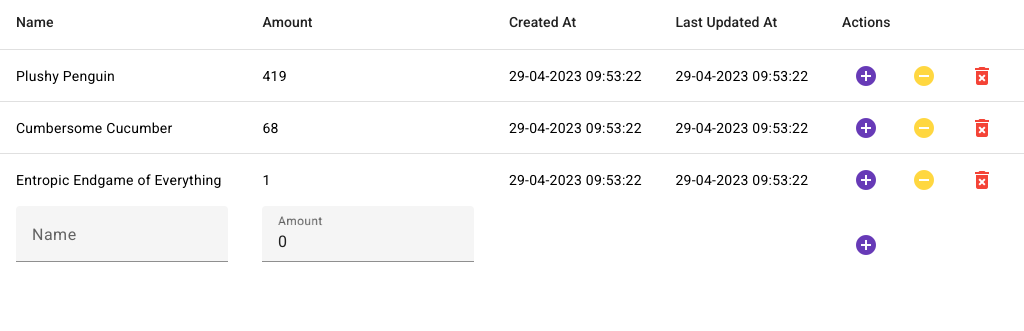
Inventory E2E › GIVEN the inventory is not empty › WHEN user enters name and amount AND clicks add button THEN item should be added
Type "New Item" into the field with test id "new-name-input".
click(122, 242); type("New Item")  # box [32,230,212,254]
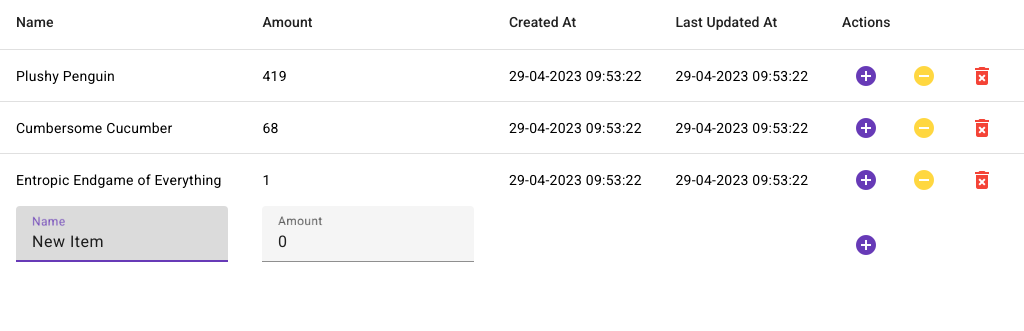
Type "8" into the number field with test id "new-amount-input".
click(368, 242); type("8")  # box [278,230,458,254]
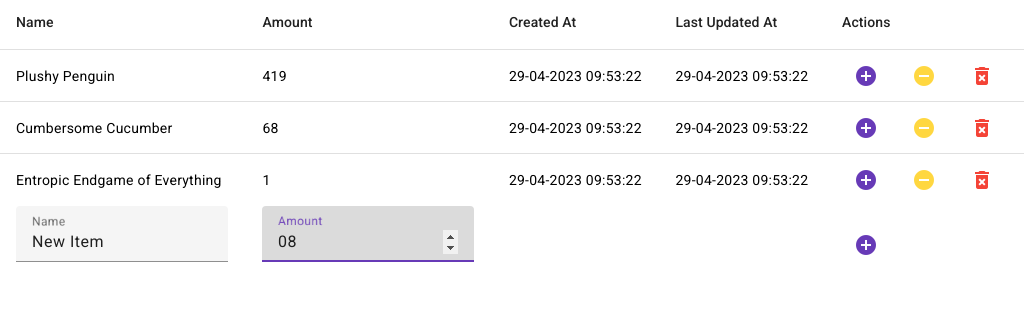
Click the button with test id "add-btn".
click(866, 245)  # box [842,221,890,269]
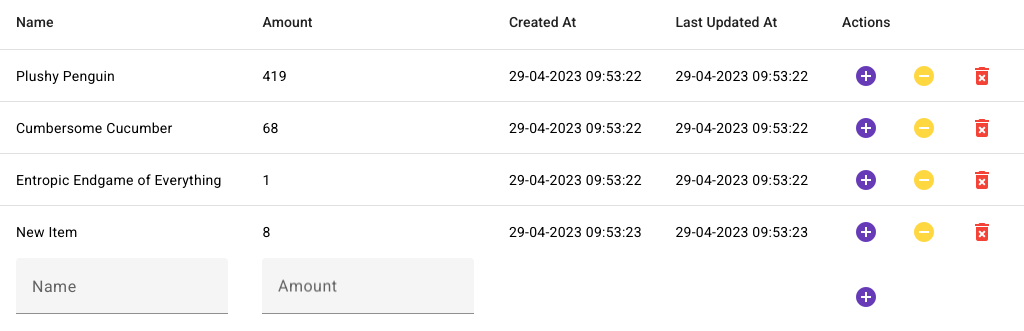
Expected: the cell with test id "name-4" reads "New Item", [16,224,78,240]
Expected: the cell with test id "amount-4" reads "8", [262,224,270,240]
